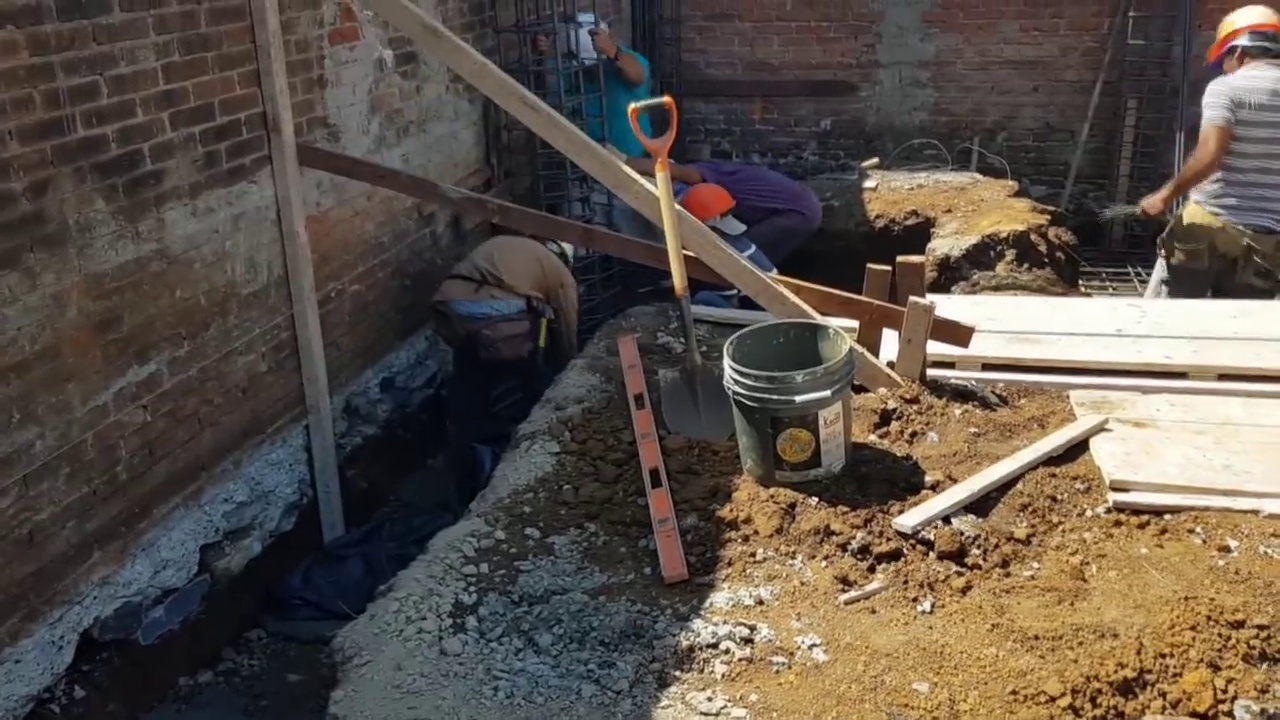helmet: (1206, 5, 1280, 65), (674, 181, 736, 224), (570, 14, 608, 58), (556, 238, 575, 268)
helmet-on: (1203, 3, 1279, 79), (675, 179, 745, 237), (570, 11, 618, 81), (540, 236, 578, 275)
person: (1139, 0, 1280, 299), (428, 235, 581, 401), (622, 140, 821, 266), (573, 8, 654, 253), (674, 173, 785, 320)
